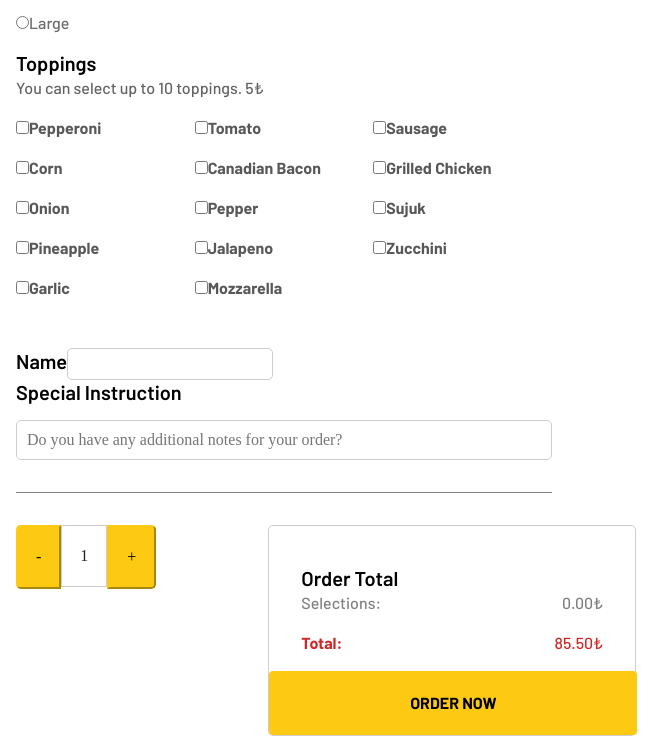
Scenario: PizzaForm E2E Tests › increments and decrements the count
(page scrolled)
Click the button with id "counter-right": click(132, 557) [107,525,156,589]
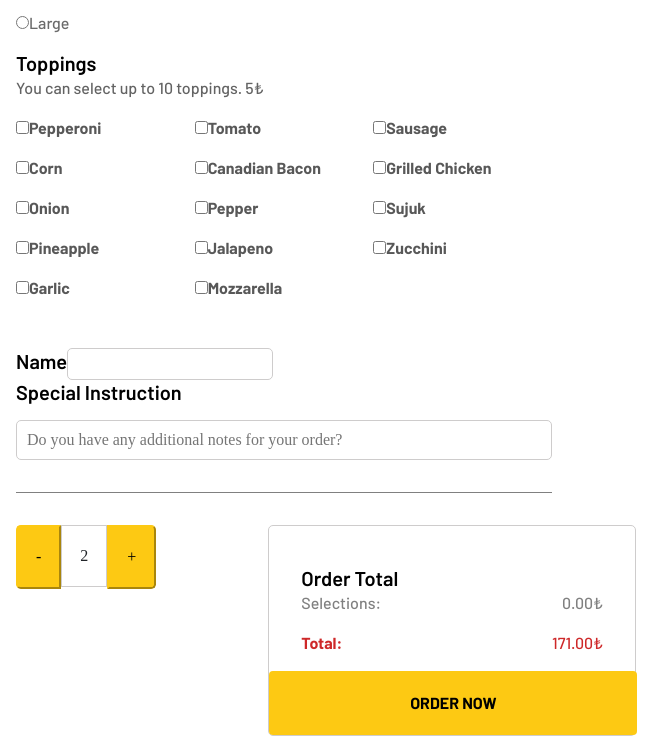
Check: the text "2" is shown, box [61,525,107,587]
Click the button with id "counter-left": click(39, 557) [16,525,61,589]
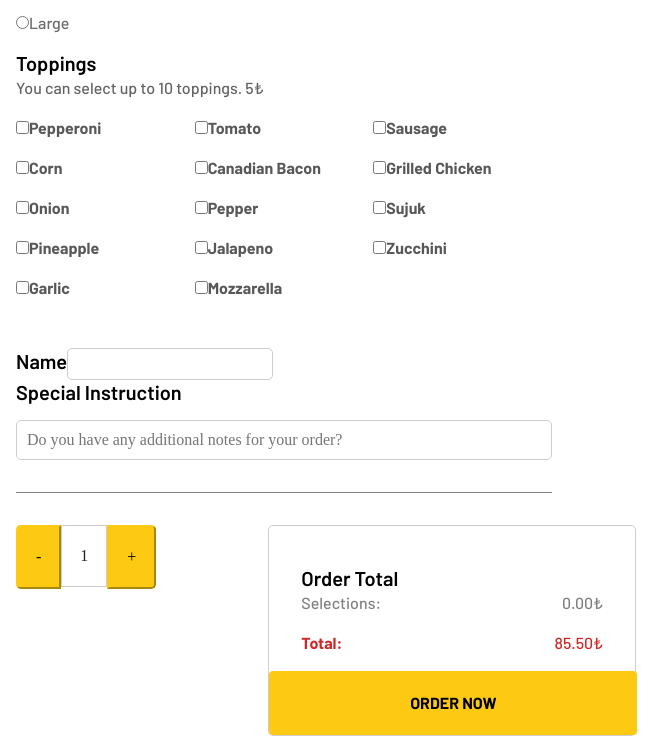
Check: the text "1" is shown, box [61,525,107,587]
